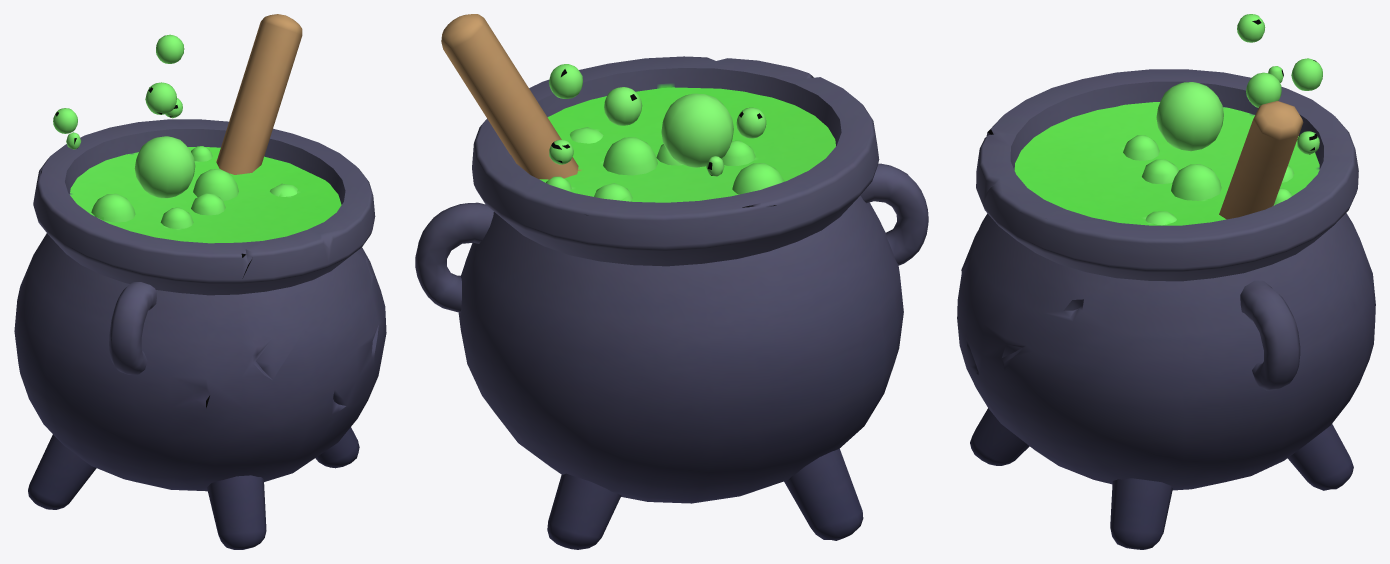
File: kit-cauldron.glb
3 views of the same model, side by side, from view 1: azimuth 30°, elevation 25°; view 2: azimuth 150°, elevation 25°; view 3: azimuth 270°, elevation 25° (orthographic). The views are drawn at different scales.
Visible parts, largest first — view 1: WBA_Witch_Cauldron_Large_01_WBA_MAT_Halloween_Atlas_0.001; view 2: WBA_Witch_Cauldron_Large_01_WBA_MAT_Halloween_Atlas_0.001; view 3: WBA_Witch_Cauldron_Large_01_WBA_MAT_Halloween_Atlas_0.001.
Boxes of the visible parts, x1,y1,x2,y2 form: WBA_Witch_Cauldron_Large_01_WBA_MAT_Halloween_Atlas_0.001: (14,14,386,549); WBA_Witch_Cauldron_Large_01_WBA_MAT_Halloween_Atlas_0.001: (415,14,928,549); WBA_Witch_Cauldron_Large_01_WBA_MAT_Halloween_Atlas_0.001: (957,14,1375,549).
Size of the model in its own units: 0.4674 by 0.5379 by 0.4572.
1 material, 1 textured.
